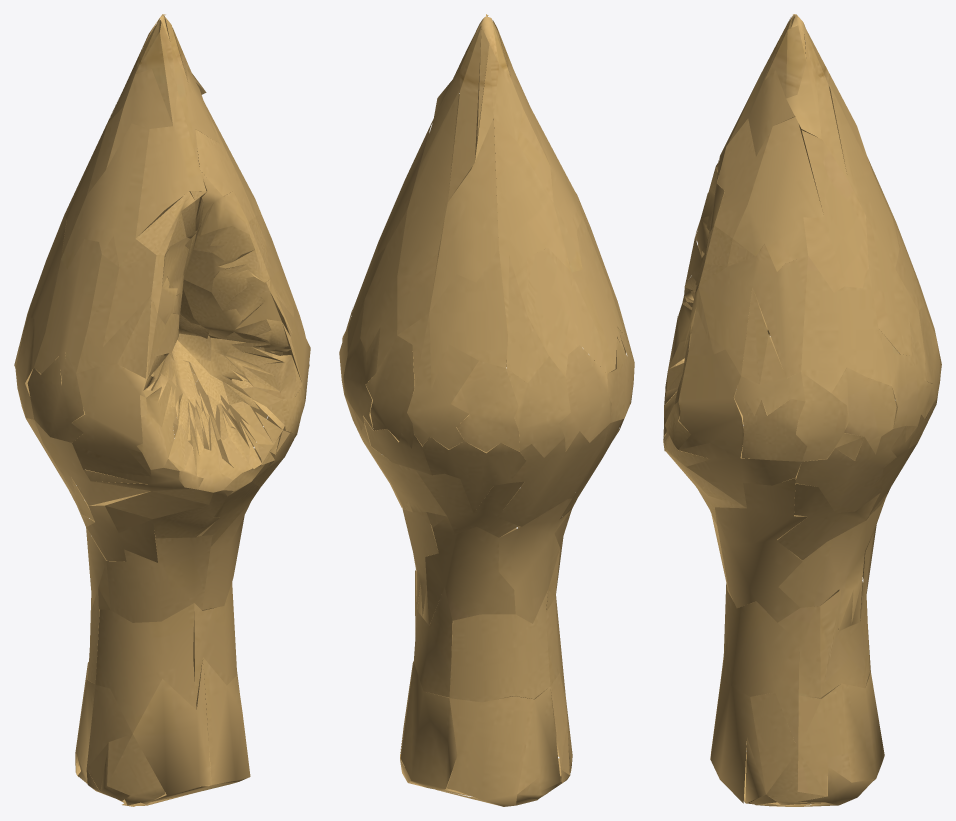
Rendered from bone_shard.glb.
3 renders of one model, left to right at view 1: azimuth 30°, elevation 25°; view 2: azimuth 150°, elevation 25°; view 3: azimuth 270°, elevation 25°, orthographic.
Parts seen in each view (by area): view 1: Mesh_0; view 2: Mesh_0; view 3: Mesh_0.
Part boxes in pixels (x1,y1,x2,y2): Mesh_0: (14,14,310,806); Mesh_0: (339,14,634,806); Mesh_0: (663,14,941,806).
Size of the model in its own units: 0.1944 by 0.55 by 0.1813.
1 material, 1 textured.
